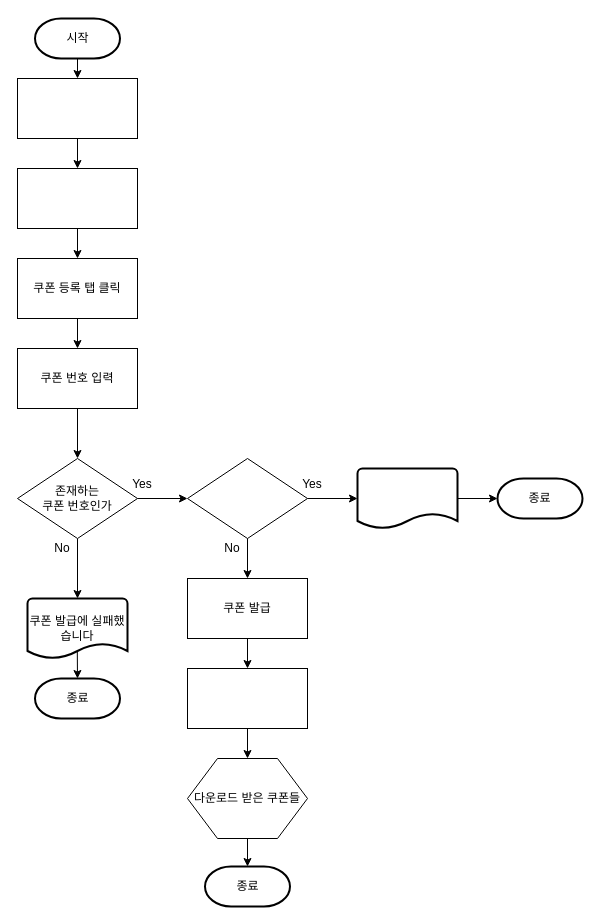
The diagram is 601 pixels wide and 924 high, and some of its shapes have lost their labels. The centre of each missing label's shape, as x and y in pixels:
"마이페이지 버튼 클릭" belongs at point 77,108.
"받은 쿠폰 탭으로 이동" belongs at point 247,698.
"이미 받은 쿠폰인가" belongs at point 247,498.
"이미 발급된 쿠폰입니다" belongs at point 407,498.
"쿠폰 메뉴 클릭" belongs at point 77,198.
